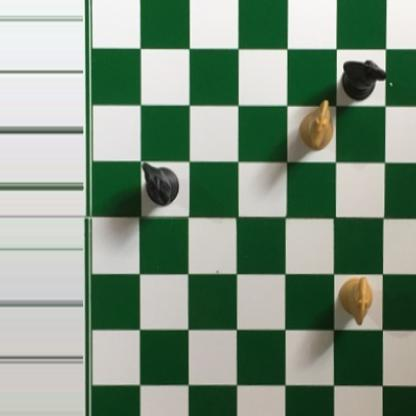black-knight: (339, 56, 388, 100), (140, 161, 181, 207)
white-knight: (298, 99, 339, 151), (339, 276, 374, 327)
